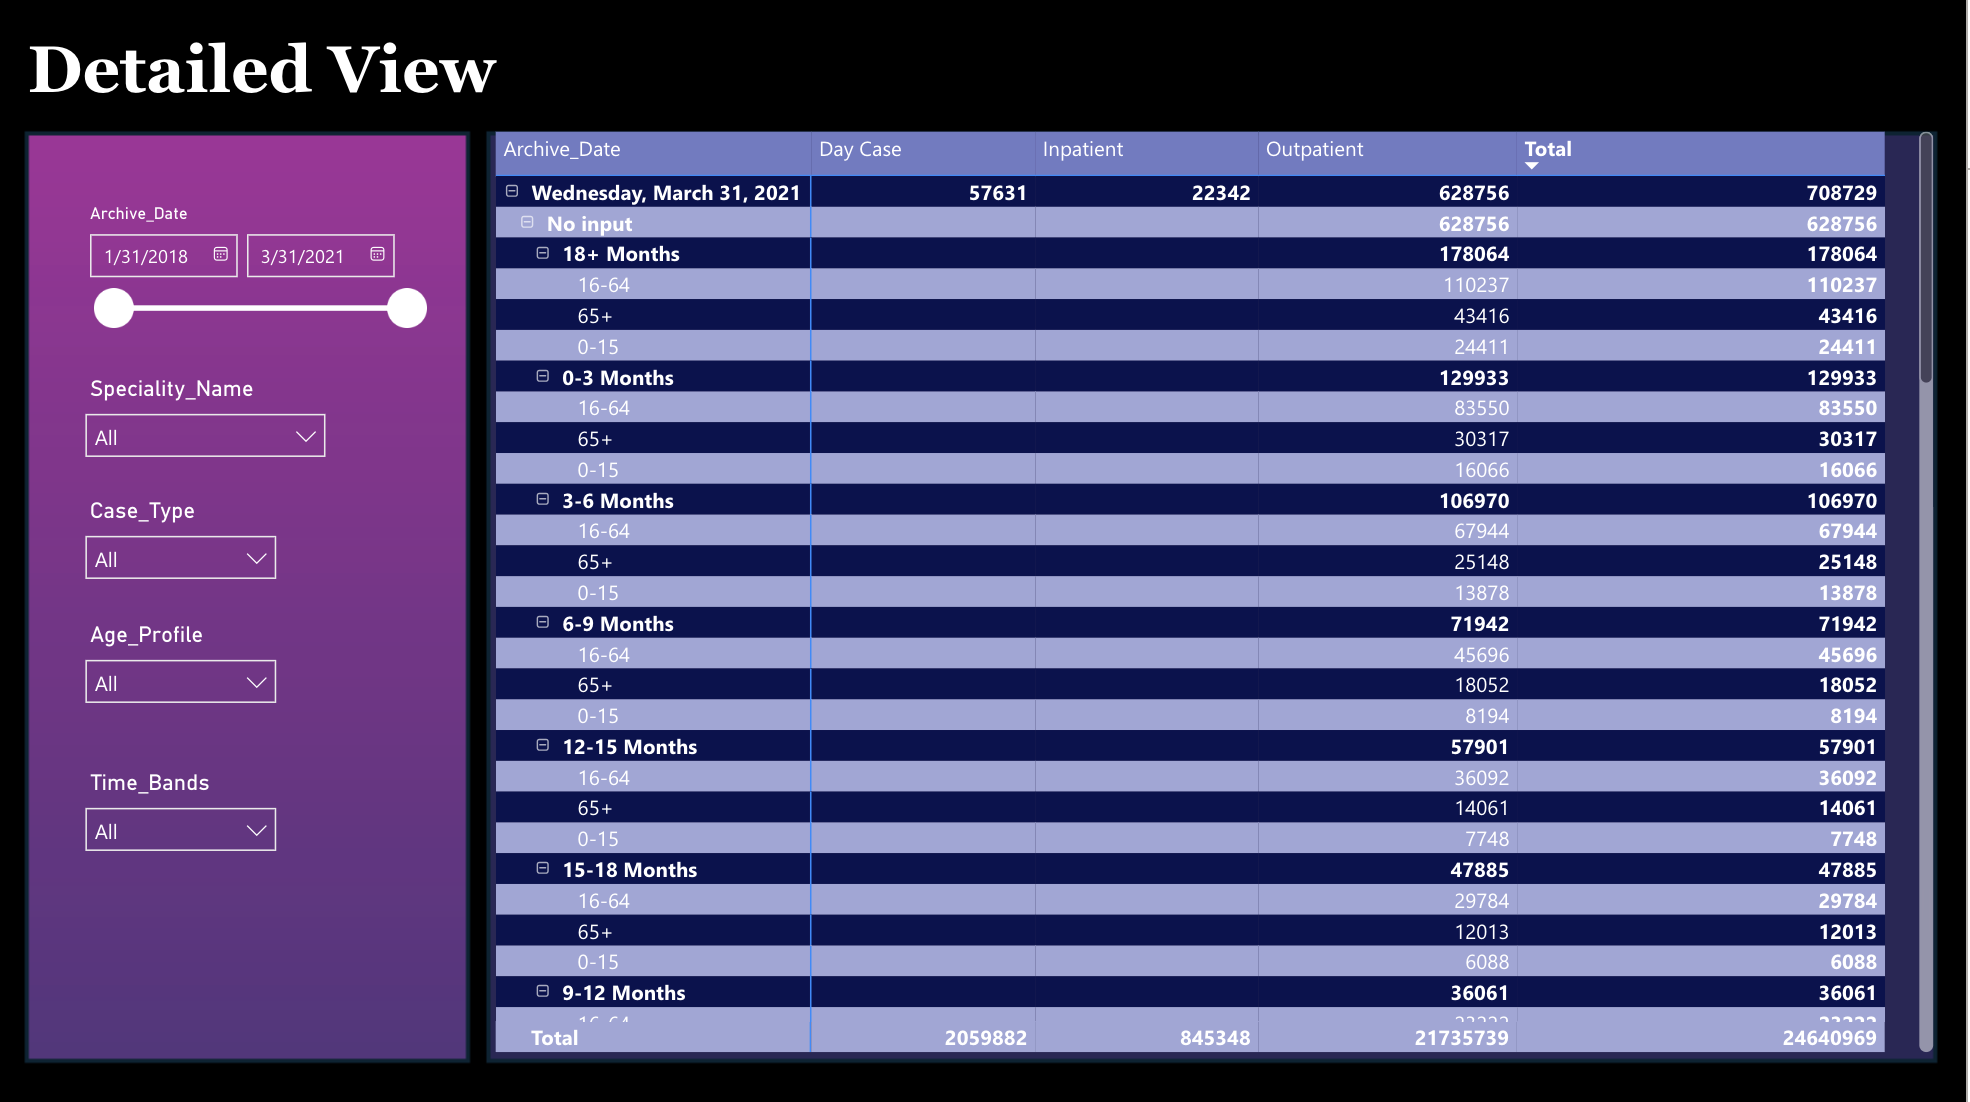

Layout of this report page (visuals, bound fields, positions):
{"tool":"powerbi","page":{"name":"Details","canvas":[1280,720],"ordinal":1},"visuals":[{"type":"textbox","box":[16,16,368,96],"z":0},{"type":"slicer","fields":{"Values":["All data.Archive_Date"]},"box":[48,128,240,96],"z":1000},{"type":"slicer","fields":{"Values":["All data.Speciality_Name"]},"box":[48,240,176,64],"z":2000},{"type":"slicer","fields":{"Values":["All data.Case_Type"]},"box":[48,320,144,64],"z":3000},{"type":"slicer","fields":{"Values":["All data.Age_Profile"]},"box":[48,400,144,64],"z":4000},{"type":"slicer","fields":{"Values":["All data.Time_Bands"]},"box":[48,496,144,80],"z":5000},{"type":"pivotTable","fields":{"Rows":["All data.Archive_Date","All data.Specialty_Name","All data.Time_Bands","All data.Age_Profile"],"Columns":["All data.Case_Type"],"Values":["Sum(All data.Total)"]},"box":[320,80,944,608],"z":6000}]}

Visuals, with their boxes in screenshot pixels (x1, y1, x2, y2), scaled from the page's 1280x720 canvas onto the 1970x1102 screenshot:
textbox: 25:24:591:171
slicer - All data.Archive_Date: 74:196:443:343
slicer - All data.Speciality_Name: 74:367:345:465
slicer - All data.Case_Type: 74:490:296:588
slicer - All data.Age_Profile: 74:612:296:710
slicer - All data.Time_Bands: 74:759:296:882
pivotTable - All data.Archive_Date x All data.Specialty_Name: 492:122:1945:1053
